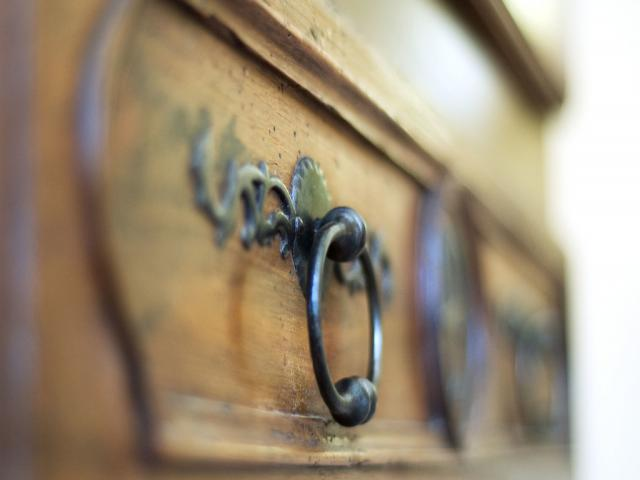Door-handle: (160, 120, 393, 430), (495, 307, 564, 444)
